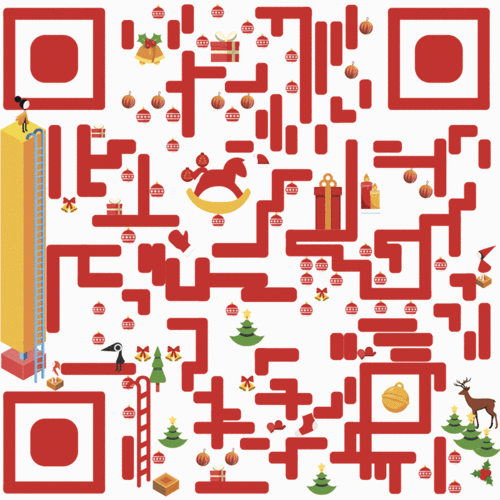QRCode: (1, 1, 499, 500)
